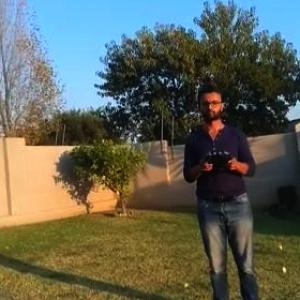follow: (178, 77, 263, 299)
